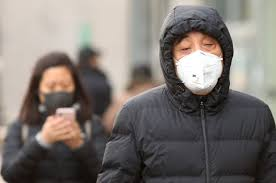mask: (165, 15, 231, 97), (31, 55, 84, 119), (81, 46, 100, 73)
